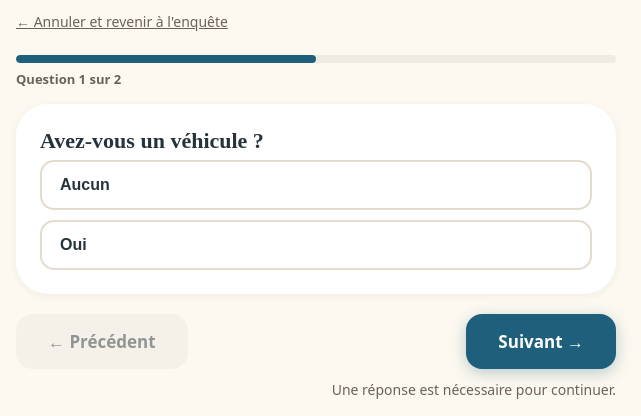
Scenario: Questionnaire v2 › « Aucun » termine l'enquête : le total tombe à 1 et le bouton devient « Terminer »
Expected: the heading "Avez-vous un véhicule ?" is shown, [39, 127, 264, 153]
Expected: the text "Question 1 sur 2" is shown, [16, 70, 121, 88]
Click the radio button labelled "Aucun": {"x": 85, "y": 184} [40, 160, 592, 210]
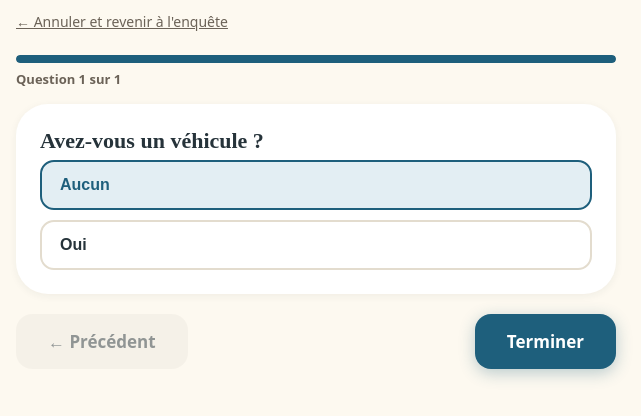
Now the text "Question 1 sur 1" is shown, box [16, 70, 121, 88]
Now the button "Terminer" is shown, box [475, 314, 616, 369]
